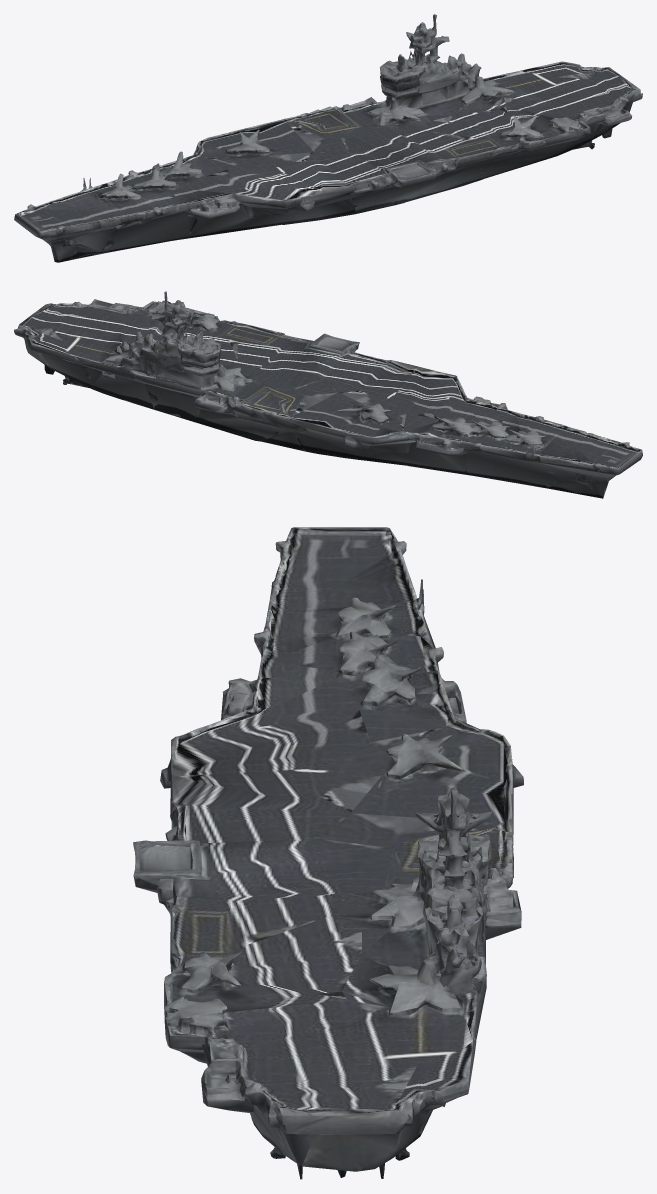
The model's file is nimitz-carrier-meshy-textured-detail-v3.glb.
The picture shows the model from 3 angles, top to bottom: view 1: azimuth 30°, elevation 25°; view 2: azimuth 150°, elevation 25°; view 3: azimuth 270°, elevation 25°; orthographic projection. The views are drawn at different scales.
Bounding box in the file's own units: 1.9 × 0.3943 × 0.5349.
Materials: 1 (1 with a texture image).
